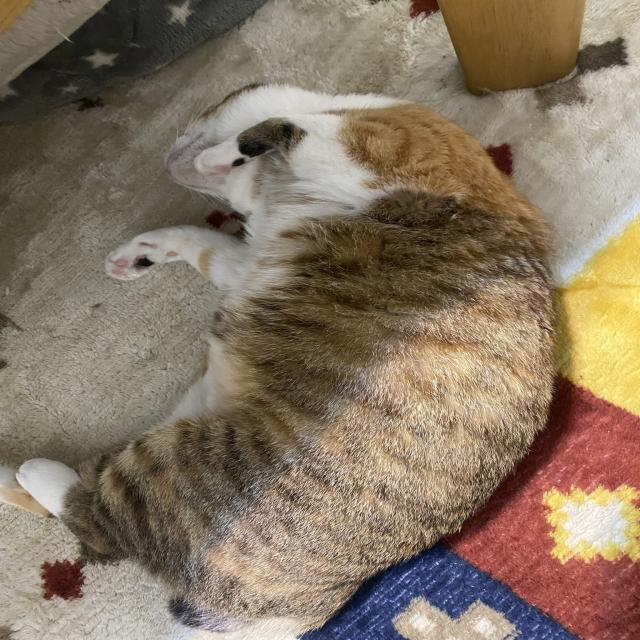cat2: (13, 79, 563, 632)
